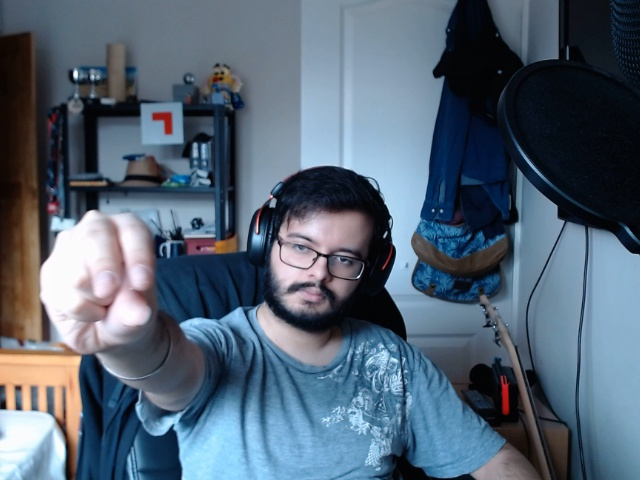No: (30, 199, 170, 375)
